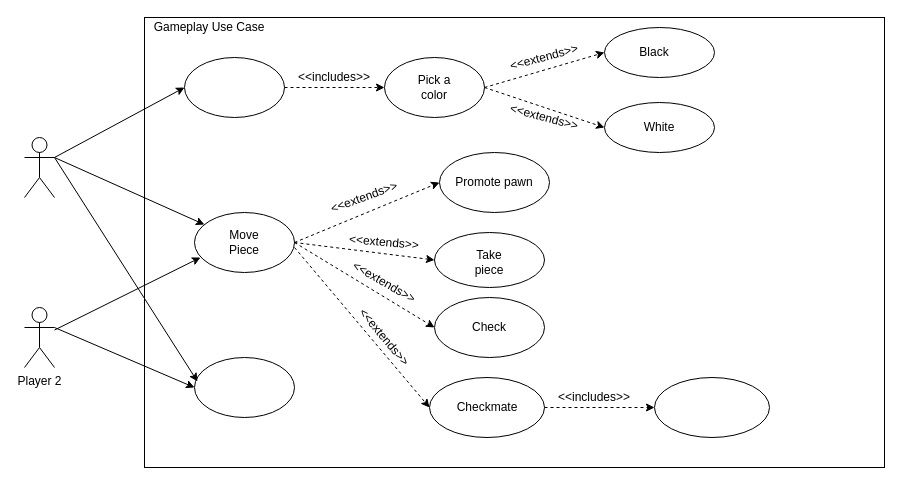
Image size: 902x485. Some labels were removed from this diagram. Here are the shapes that lost their labels. From the top down, the centre of each, then its label:
(x=234, y=87): Start
(x=39, y=167): Player 1
(x=244, y=387): End Game
(x=712, y=407): win game
